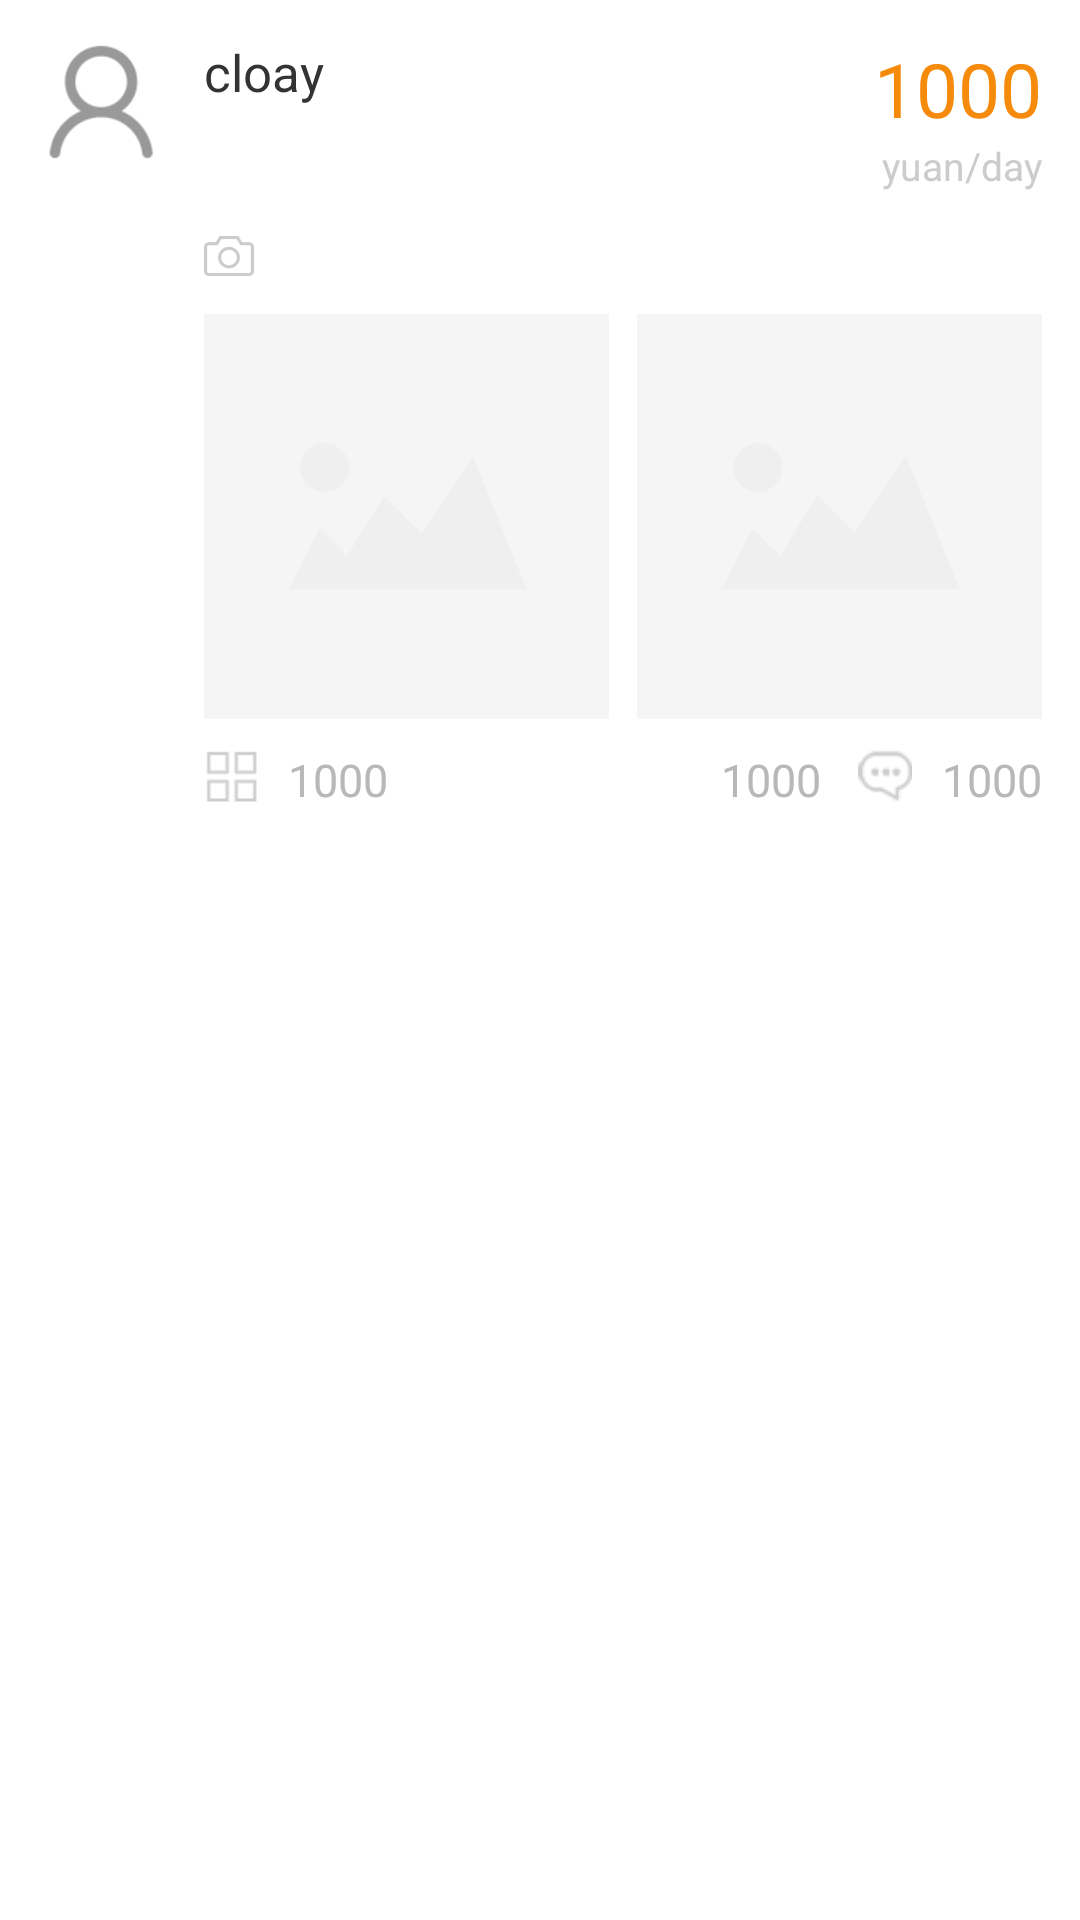

Icons on this 1080×1920 Android screen, each with its box as rect(x1, y1, x2, y2):
home comment: rect(858, 752, 912, 800)
home works: rect(207, 752, 256, 802)
